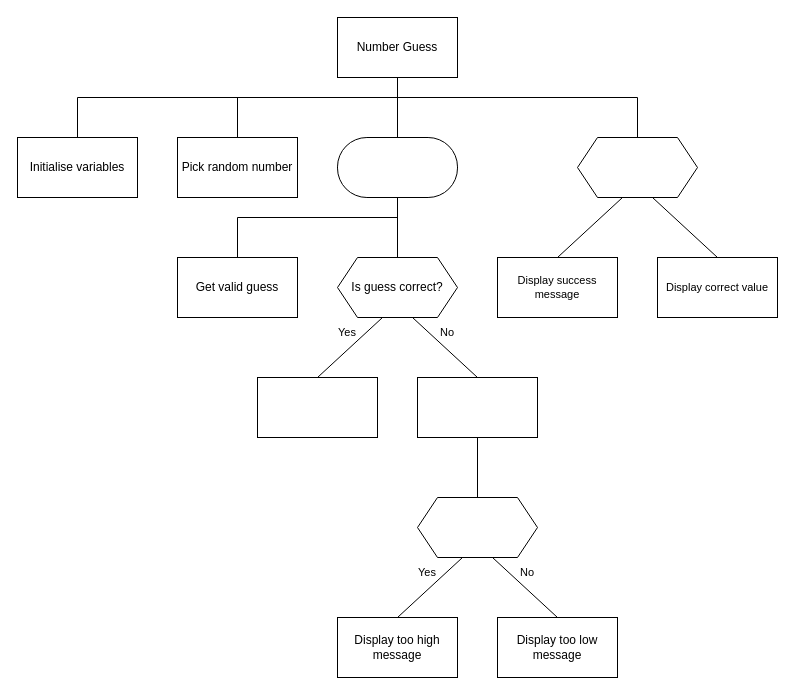
Image size: 795x695. Some labels were removed from this diagram. Each missing label, with the centre of its shape:
Change found to TRUE: the point at 317,407
Guessed correctly?: the point at 637,167
Is guess to high?: the point at 477,527
Reduce life by 1: the point at 477,407
Repeat until guess is correct or no lives left: the point at 397,167
